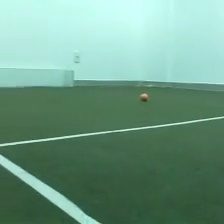ball: (138, 90, 149, 102)
goal: (1, 65, 76, 90)
